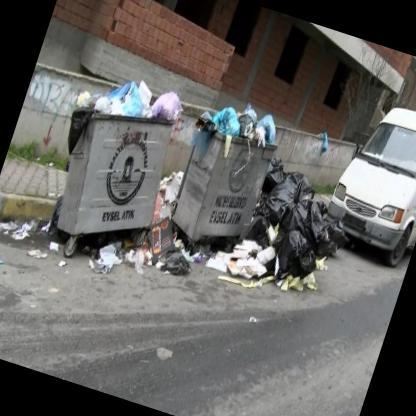Garbage: (249, 178, 356, 309), (205, 236, 304, 316), (99, 64, 195, 136), (198, 90, 286, 147), (265, 168, 325, 230), (280, 193, 335, 252), (274, 226, 326, 282), (91, 235, 150, 281), (152, 238, 196, 291), (208, 100, 253, 146), (109, 79, 157, 119), (152, 90, 190, 128), (0, 212, 33, 254), (250, 110, 286, 148), (153, 168, 184, 210), (188, 245, 214, 291), (264, 150, 292, 191), (30, 236, 61, 272), (72, 87, 104, 112)
